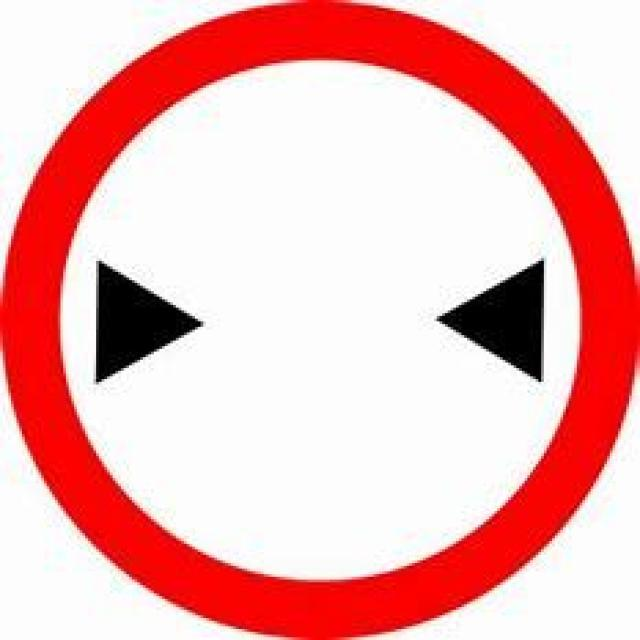width limit: (31, 34, 616, 618)
